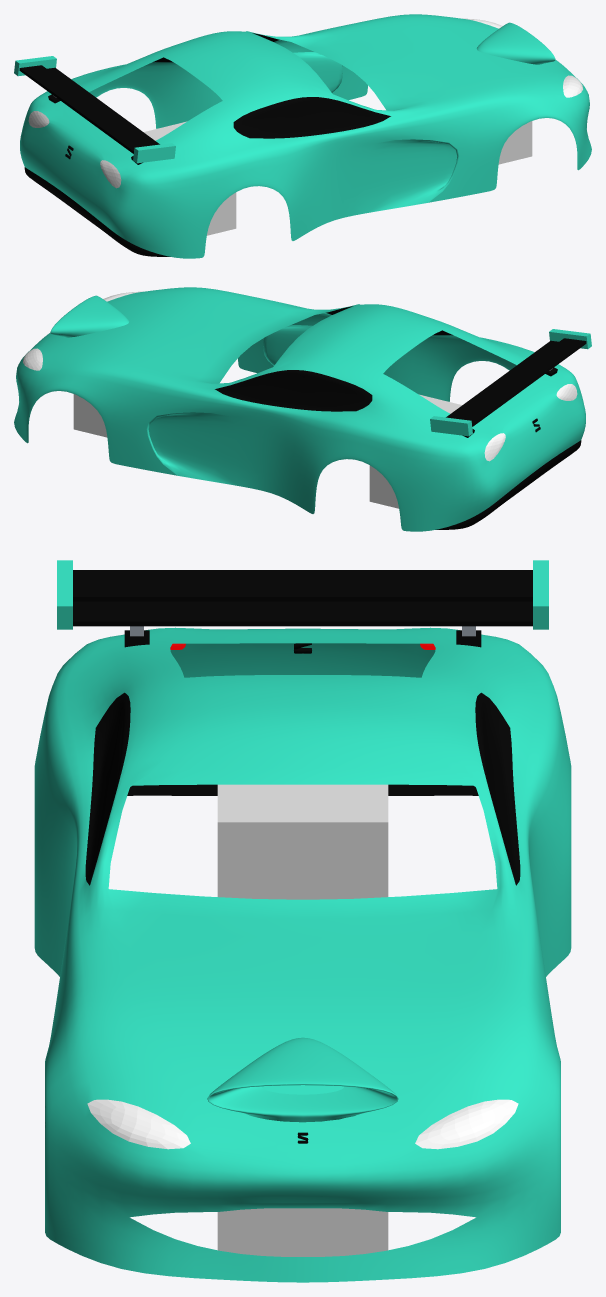
Rendered from cars.glb.
3 views of the same model, one above another, from view 1: azimuth 30°, elevation 25°; view 2: azimuth 150°, elevation 25°; view 3: azimuth 270°, elevation 25° (orthographic). The views are drawn at different scales.
Parts seen in each view (by area): view 1: Body, Wing, HoodIntake, Cube.001, Cube.002; view 2: Body, Wing, HoodIntake, Cube.001, Cube.002; view 3: Body, Wing, Cube.001, HoodIntake, Cube.002.
Part boxes in pixels (x1,y1,x2,y2): Body: (20, 14, 591, 258); Wing: (14, 56, 175, 164); HoodIntake: (476, 22, 555, 64); Cube.001: (143, 121, 236, 235); Cube.002: (498, 121, 532, 164); Body: (14, 287, 585, 531); Wing: (430, 329, 591, 437); HoodIntake: (50, 295, 129, 337); Cube.001: (369, 394, 462, 508); Cube.002: (73, 394, 107, 437); Body: (34, 627, 571, 1282); Wing: (57, 560, 548, 647); Cube.001: (217, 784, 388, 899); HoodIntake: (207, 1037, 398, 1122); Cube.002: (217, 1208, 388, 1256).
Size of the model in its own units: 13.44 by 3.81 by 6.28.
